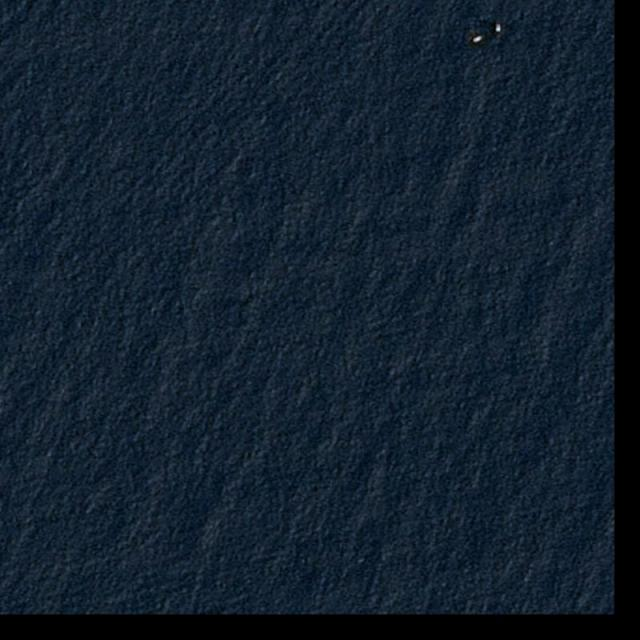ship: (471, 34, 484, 45), (495, 23, 502, 33)
